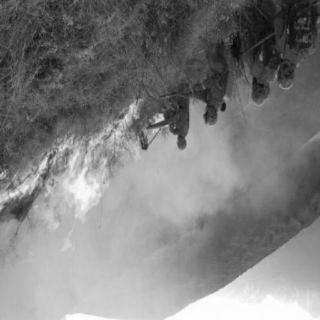Fire: (3, 98, 173, 244)
Smoke: (19, 242, 85, 308), (154, 160, 218, 214), (195, 137, 229, 180)
other: (238, 11, 318, 115), (192, 42, 236, 136)
